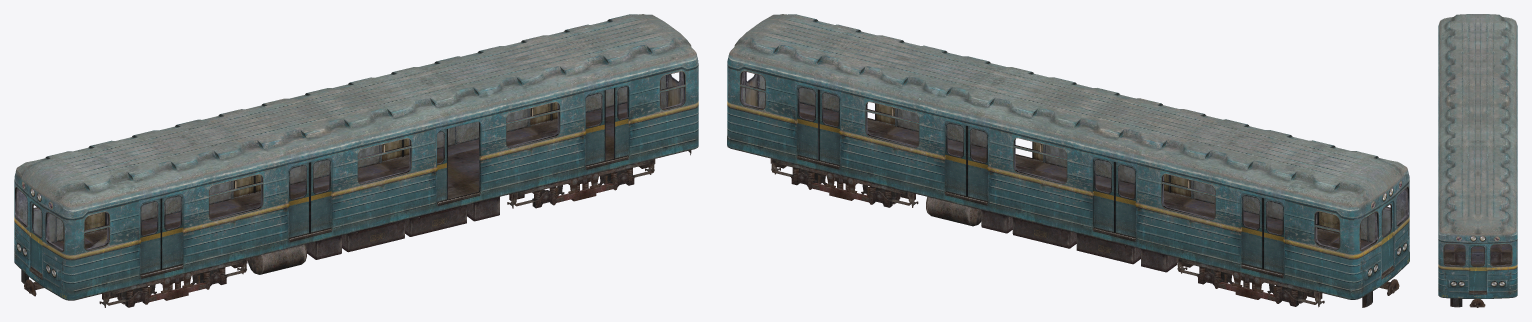
Rendered from metro_2033_train.glb.
3 views of the same model, side by side, from view 1: azimuth 30°, elevation 25°; view 2: azimuth 150°, elevation 25°; view 3: azimuth 270°, elevation 25° (orthographic). The views are drawn at different scales.
Visible parts, largest first — view 1: Object_4, Object_2, Object_3; view 2: Object_4, Object_2, Object_3; view 3: Object_4, Object_2, Object_3.
Part boxes in pixels (left/top/right/bottom): Object_4: left=16, top=14, right=696, bottom=307; Object_2: left=14, top=45, right=698, bottom=300; Object_3: left=15, top=71, right=684, bottom=276; Object_4: left=729, top=14, right=1407, bottom=307; Object_2: left=727, top=45, right=1409, bottom=299; Object_3: left=741, top=71, right=1408, bottom=276; Object_4: left=1440, top=14, right=1515, bottom=307; Object_2: left=1438, top=22, right=1517, bottom=298; Object_3: left=1444, top=244, right=1511, bottom=292.
Size of the model in its own units: 833 by 164 by 126.
Materials: 3 (3 with a texture image).
